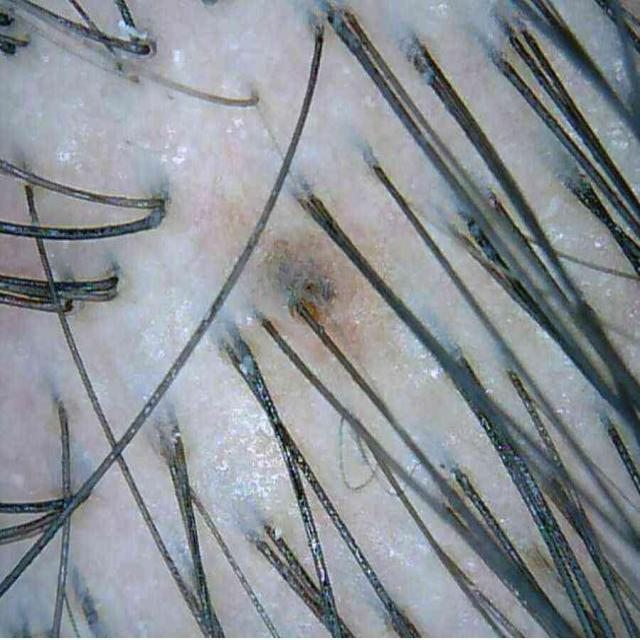d: (116, 17, 148, 39)
o: (208, 397, 291, 518), (393, 315, 448, 390), (161, 121, 193, 175), (601, 118, 636, 155), (55, 132, 88, 171), (606, 50, 629, 92), (541, 218, 566, 252), (429, 2, 451, 20), (171, 47, 182, 64)
s: (264, 239, 337, 312)
